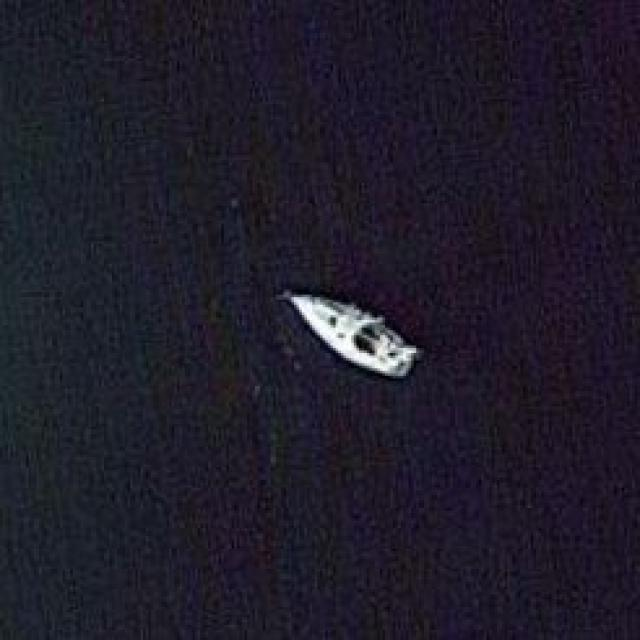ship: (273, 284, 419, 381)
